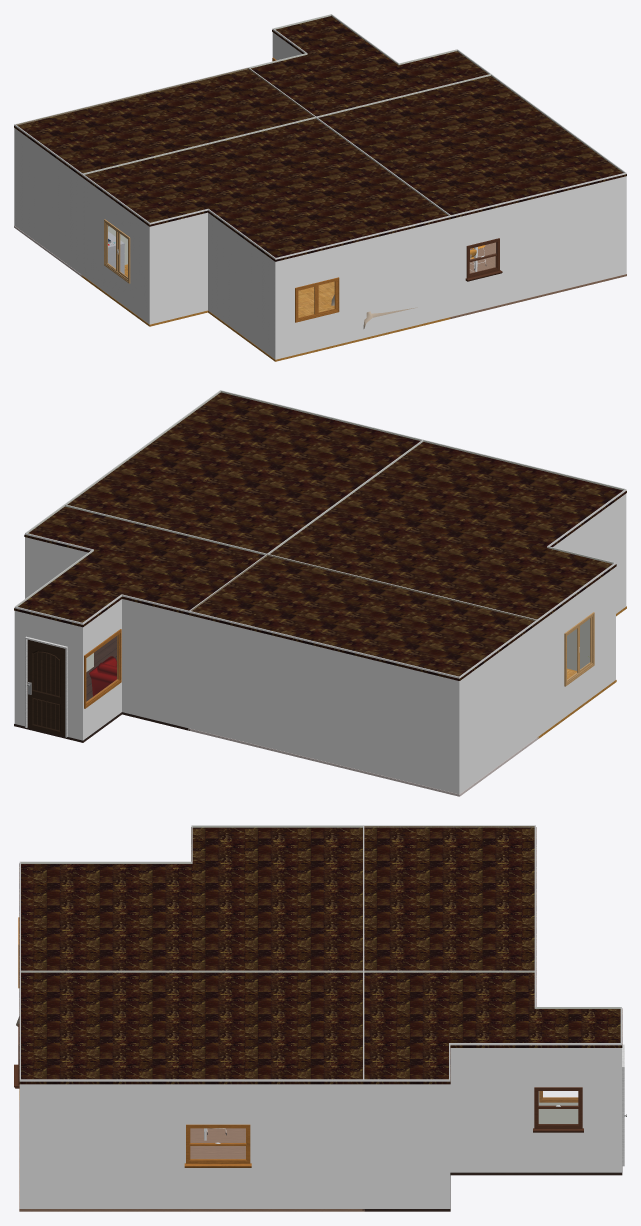
The model's file is ProcTHOR-Train-59.glb.
3 renders of one model, top to bottom at view 1: azimuth 30°, elevation 25°; view 2: azimuth 150°, elevation 25°; view 3: azimuth 270°, elevation 25°, orthographic. The views are drawn at different scales.
Visible parts, largest first — view 1: Ceiling#room|4|c, Ceiling#room|6|c, WallInside#wall|exterior|0.00|11.38|4.88|11.38, WallInside#wall|exterior|4.88|11.38|9.75|11.38, Ceiling#room|5|c, Ceiling#room|7|c, WallInside#wall|exterior|11.38|1.63|11.38|4.88, WallInside#wall|exterior|9.75|8.13|9.75|11.38, WallInside#wall|exterior|9.75|8.13|11.38|8.13, WallInside#wall|exterior|11.38|4.88|11.38|8.13, Floor#room|4|f, Floor#room|6|f (+6 smaller); view 2: Ceiling#room|4|c, WallInside#wall|exterior|4.88|1.63|11.38|1.63, Ceiling#room|6|c, Ceiling#room|5|c, Ceiling#room|7|c, WallInside#wall|exterior|11.38|1.63|11.38|4.88, WallInside#wall|exterior|3.25|1.63|4.88|1.63, WallInside#wall|exterior|11.38|4.88|11.38|8.13, WallInside#wall|exterior|1.63|0.00|3.25|0.00, Doorway_9, WallInside#wall|exterior|9.75|8.13|9.75|11.38, WallInside#wall|exterior|3.25|0.00|3.25|1.63 (+8 smaller); view 3: Ceiling#room|4|c, WallInside#wall|exterior|0.00|4.88|0.00|11.38, Ceiling#room|6|c, Ceiling#room|5|c, WallInside#wall|exterior|1.63|0.00|1.63|3.25, Ceiling#room|7|c, WallInside#wall|exterior|0.00|3.25|0.00|4.88, Floor#room|6|f, Window_Hung_48x32, Window_Hung_36x32, Floor#room|7|f, WallInside#wall|7|3.25|0.00|3.25|1.63 (+1 smaller).
Part boxes in pixels (x1,y1,x2,y2): Ceiling#room|4|c: (81, 118, 451, 261); Ceiling#room|6|c: (317, 76, 626, 218); WallInside#wall|exterior|0.00|11.38|4.88|11.38: (450, 173, 626, 316); WallInside#wall|exterior|4.88|11.38|9.75|11.38: (275, 215, 451, 359); Ceiling#room|5|c: (14, 69, 313, 176); Ceiling#room|7|c: (251, 16, 488, 117); WallInside#wall|exterior|11.38|1.63|11.38|4.88: (14, 124, 82, 274); WallInside#wall|exterior|9.75|8.13|9.75|11.38: (208, 209, 275, 359); WallInside#wall|exterior|9.75|8.13|11.38|8.13: (149, 209, 207, 324); WallInside#wall|exterior|11.38|4.88|11.38|8.13: (82, 174, 149, 324); Floor#room|4|f: (81, 264, 450, 361); Floor#room|6|f: (450, 242, 626, 318); Ceiling#room|4|c: (268, 442, 626, 622); WallInside#wall|exterior|4.88|1.63|11.38|1.63: (188, 611, 459, 794); Ceiling#room|6|c: (67, 392, 422, 555); Ceiling#room|5|c: (188, 556, 538, 680); Ceiling#room|7|c: (14, 506, 267, 627); WallInside#wall|exterior|11.38|1.63|11.38|4.88: (459, 620, 537, 793); WallInside#wall|exterior|3.25|1.63|4.88|1.63: (122, 594, 189, 728); WallInside#wall|exterior|11.38|4.88|11.38|8.13: (537, 562, 615, 736); WallInside#wall|exterior|1.63|0.00|3.25|0.00: (14, 607, 82, 740); Doorway_9: (25, 636, 67, 737); WallInside#wall|exterior|9.75|8.13|9.75|11.38: (548, 489, 626, 613); WallInside#wall|exterior|3.25|0.00|3.25|1.63: (83, 594, 121, 740); Ceiling#room|4|c: (19, 827, 364, 972); WallInside#wall|exterior|0.00|4.88|0.00|11.38: (20, 1079, 364, 1208); Ceiling#room|6|c: (19, 972, 364, 1084); Ceiling#room|5|c: (362, 827, 536, 972); WallInside#wall|exterior|1.63|0.00|1.63|3.25: (449, 1043, 621, 1172); Ceiling#room|7|c: (362, 973, 622, 1084); WallInside#wall|exterior|0.00|3.25|0.00|4.88: (363, 1079, 449, 1208); Floor#room|6|f: (19, 1100, 364, 1211); Window_Hung_48x32: (184, 1124, 251, 1167); Window_Hung_36x32: (533, 1087, 583, 1132); Floor#room|7|f: (362, 1166, 622, 1211); WallInside#wall|7|3.25|0.00|3.25|1.63: (534, 1007, 621, 1123).
Size of what is drawn, in the model's own units: 11.54 by 2.75 by 11.61.
Materials: 287 (111 with a texture image).
